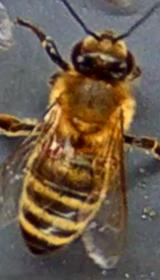varroa_mite: (38, 132, 68, 162)
